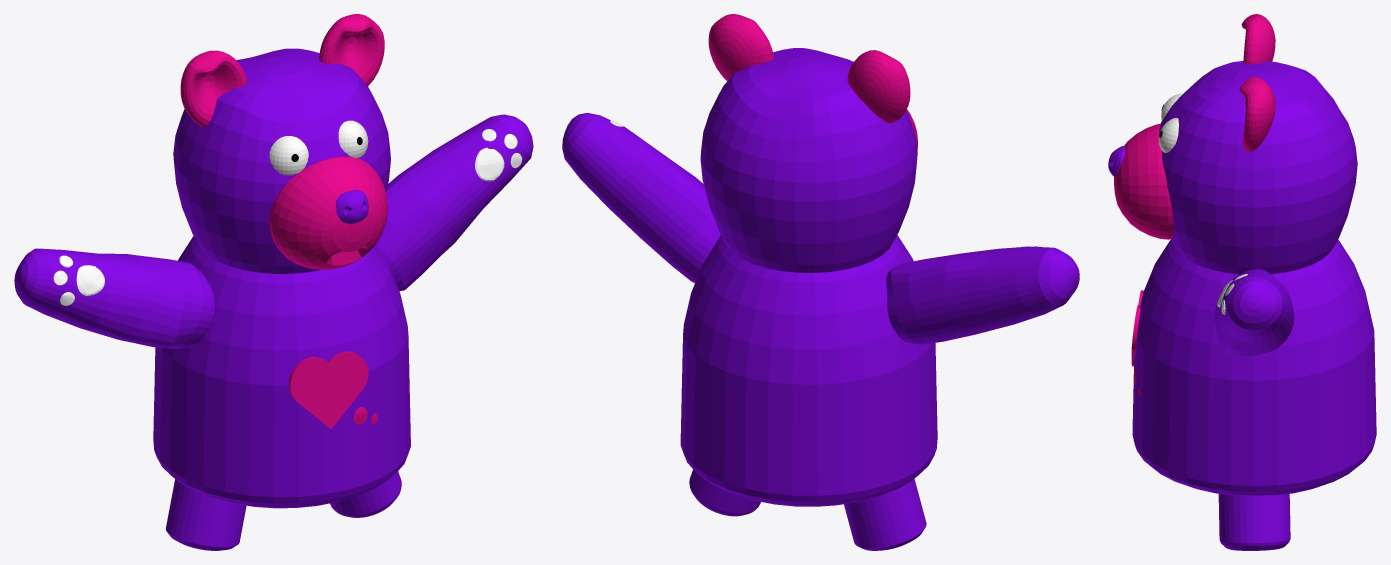
File: bear.glb
3 views of the same model, side by side, from view 1: azimuth 30°, elevation 25°; view 2: azimuth 150°, elevation 25°; view 3: azimuth 270°, elevation 25° (orthographic). The views are drawn at different scales.
Visible parts, largest first — view 1: body, head, arm1, arm2, mouth, heart, leg1, ear1, ear2, leg2, eye1, nose (+3 smaller); view 2: body, head, arm1, arm2, leg1, ear1, ear2, leg2; view 3: body, head, arm2, mouth, leg2, ear2, ear1, eye2, nose, heart.
Part boxes in pixels (x1,y1,x2,y2): body: (153,236,410,508); head: (173,48,390,273); arm1: (14,248,214,348); arm2: (376,114,533,291); mouth: (269,156,387,269); heart: (288,351,368,429); leg1: (165,479,246,550); ear1: (180,50,247,126); ear2: (319,14,384,85); leg2: (330,471,401,517); eye1: (269,136,308,175); nose: (335,190,368,223); body: (680,235,937,506); head: (700,48,917,272); arm1: (886,246,1079,344); arm2: (562,112,720,283); leg1: (844,479,926,550); ear1: (847,50,910,123); ear2: (708,14,773,81); leg2: (689,469,760,516); body: (1132,239,1376,495); head: (1159,61,1357,274); arm2: (1214,268,1294,356); mouth: (1114,123,1173,239); leg2: (1218,494,1290,550); ear2: (1239,76,1275,151); ear1: (1241,14,1275,64); eye2: (1159,118,1178,152); nose: (1108,145,1125,177); heart: (1131,290,1143,366).
Size of the model in its own units: 4.91 by 4.55 by 2.37.
